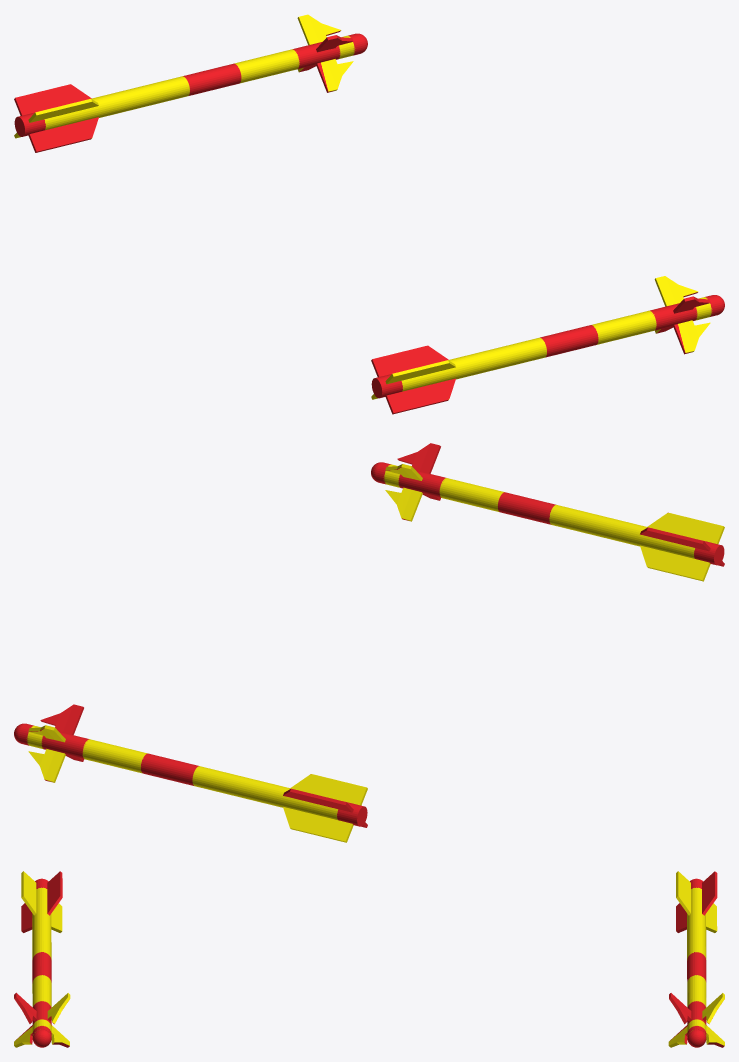
File: aam3tf2a34.glb
3 renders of one model, top to bottom at view 1: azimuth 30°, elevation 25°; view 2: azimuth 150°, elevation 25°; view 3: azimuth 270°, elevation 25°, orthographic. The views are drawn at different scales.
Visible parts, largest first — view 1: 球.001, 球.006; view 2: 球.001, 球.006; view 3: 球.001, 球.006.
Part boxes in pixels (left/top/right/bottom): 球.001: left=371, top=276, right=724, bottom=414; 球.006: left=14, top=14, right=367, bottom=152; 球.001: left=371, top=443, right=724, bottom=581; 球.006: left=14, top=704, right=367, bottom=842; 球.001: left=14, top=871, right=70, bottom=1047; 球.006: left=668, top=871, right=724, bottom=1047.
Bounding box in the file's own units: 4.06 × 0.6236 × 7.86.
Materials: 3 (3 with a texture image).
